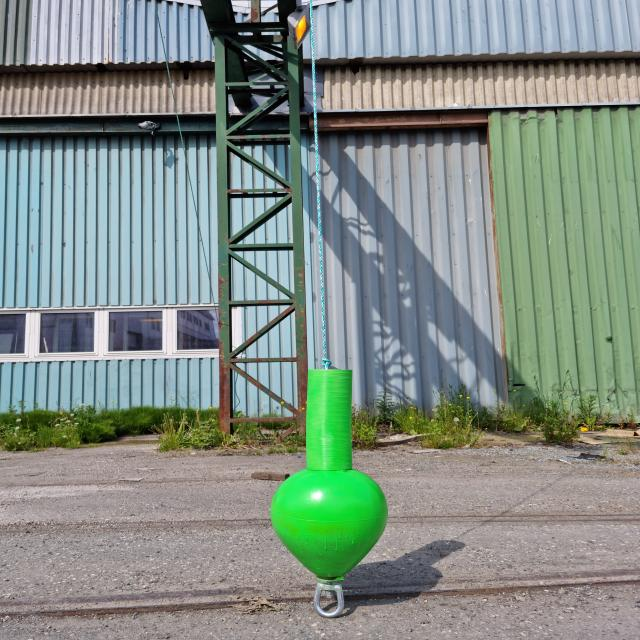green: (272, 370, 389, 581)
